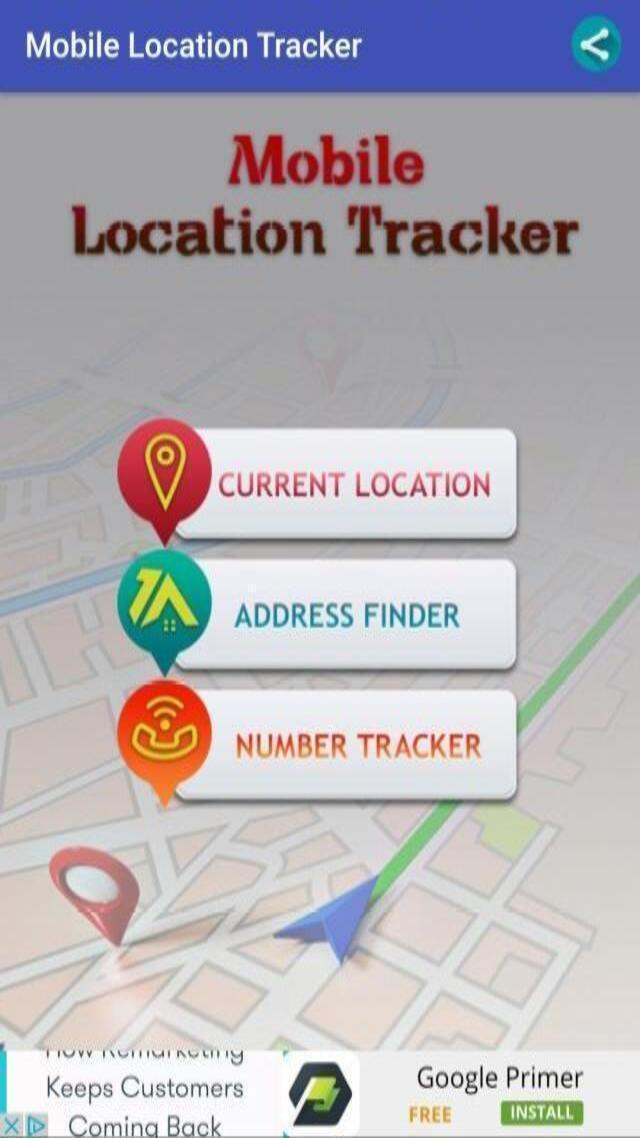Icon: (284, 1063, 352, 1132), (567, 12, 626, 78), (570, 11, 620, 78)
Image: (61, 123, 603, 282), (113, 678, 214, 808), (117, 418, 215, 544), (114, 549, 214, 671), (494, 1096, 594, 1130), (398, 1098, 464, 1130)
Text: (13, 16, 369, 75), (214, 460, 498, 508), (229, 725, 489, 768), (228, 596, 466, 635), (409, 1060, 592, 1096), (48, 1077, 245, 1107)
TextButton: (170, 424, 516, 542), (168, 685, 516, 800), (170, 557, 519, 667)
